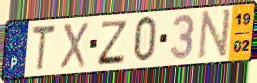0: (132, 14, 160, 66)
3: (169, 12, 196, 62)
N: (196, 7, 233, 61)
T: (30, 23, 57, 73)
X: (58, 21, 90, 70)
Z: (96, 20, 130, 67)
